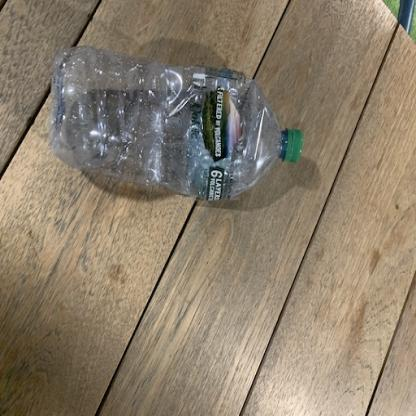trash: (51, 43, 310, 206)
